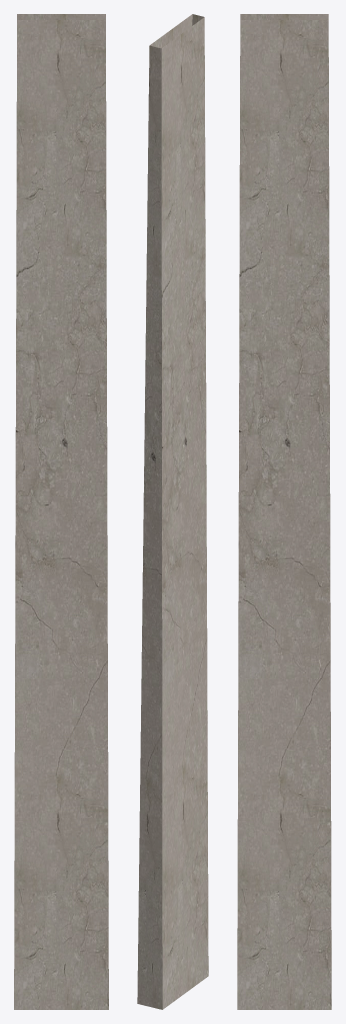
File: pasted__marble_tile_130.fbx
3 renders of one model, left to right at view 1: azimuth 90°, elevation 25°; view 2: azimuth 150°, elevation 25°; view 3: azimuth 270°, elevation 25°, orthographic. The views are drawn at different scales.
Parts seen in each view (by area): view 1: pasted__Node_1145; view 2: pasted__Node_1145; view 3: pasted__Node_1145.
Boxes of the visible parts, <box> form: pasted__Node_1145: <box>14,14,108,1009</box>; pasted__Node_1145: <box>137,14,208,1009</box>; pasted__Node_1145: <box>237,14,331,1009</box>.
Size of the model in its own units: 5.3 by 16.81 by 193.
